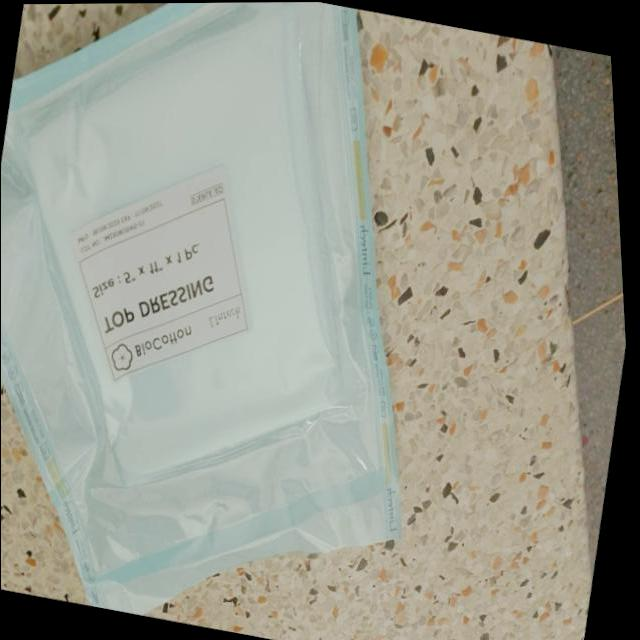General: (69, 166, 251, 383)
Infectious: (1, 2, 403, 617)
